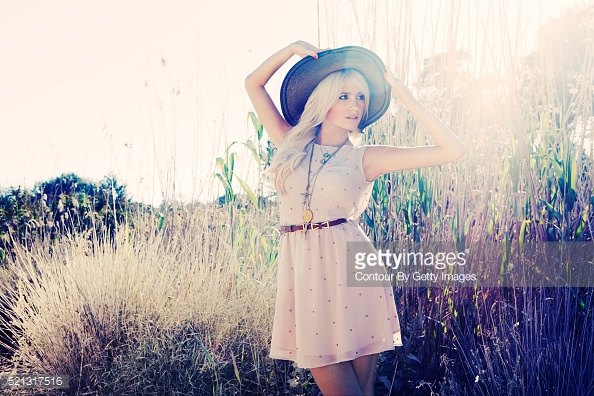em pe: (239, 41, 442, 379)
